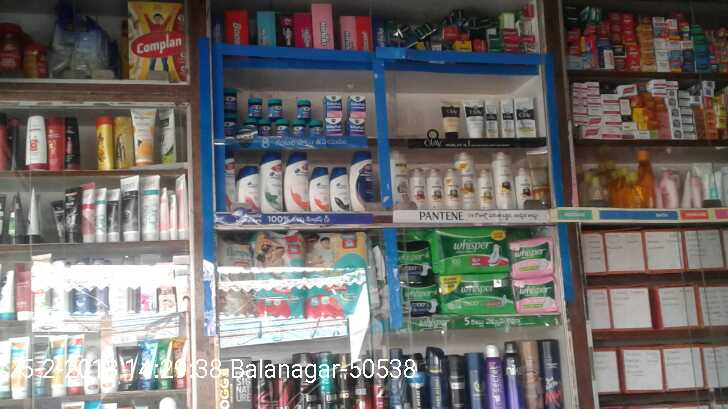vicks: (222, 89, 369, 139)
